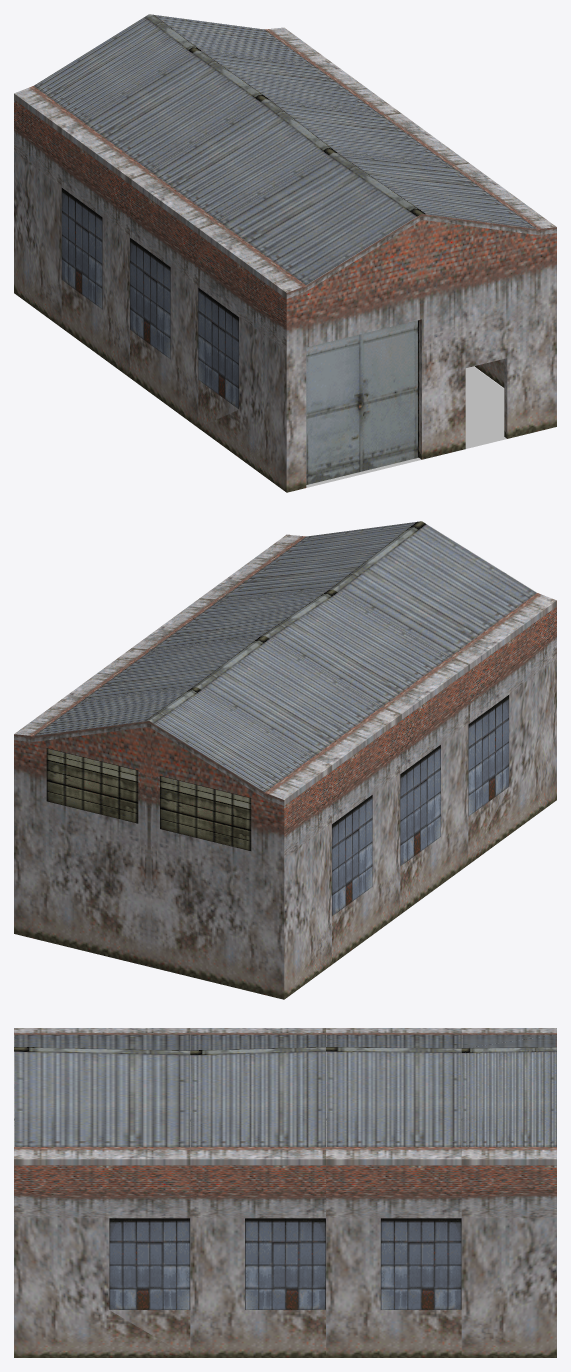
The model's file is Edificio 2 Flashing Lights.fbx.
3 views of the same model, one above another, from view 1: azimuth 30°, elevation 25°; view 2: azimuth 150°, elevation 25°; view 3: azimuth 270°, elevation 25° (orthographic).
Parts seen in each view (by area): view 1: oldWareHouse_01, Plane; view 2: oldWareHouse_01; view 3: oldWareHouse_01.
Boxes of the visible parts, box(x1,y1,x2,y2) form: oldWareHouse_01: box(14, 14, 556, 492); Plane: box(306, 366, 506, 487); oldWareHouse_01: box(14, 521, 556, 999); oldWareHouse_01: box(14, 1028, 556, 1357).
Bounding box in the file's own units: 800 × 696 × 1399.
